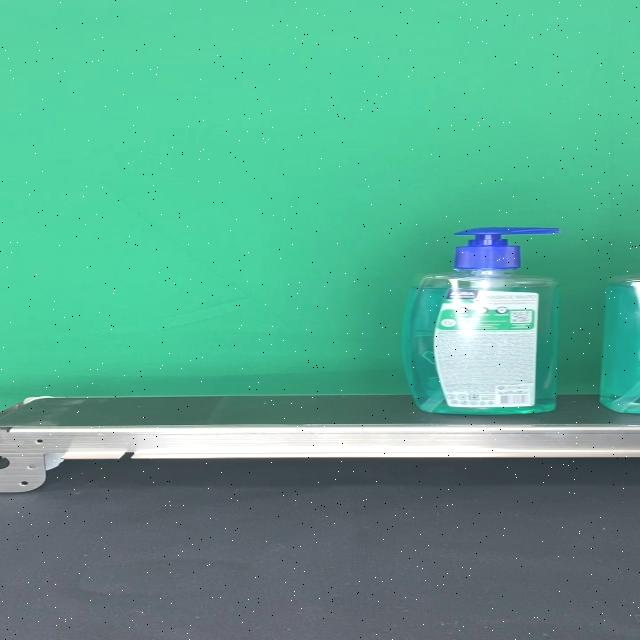Bottle: (402, 228, 560, 414)
Cap: (454, 228, 560, 269)
